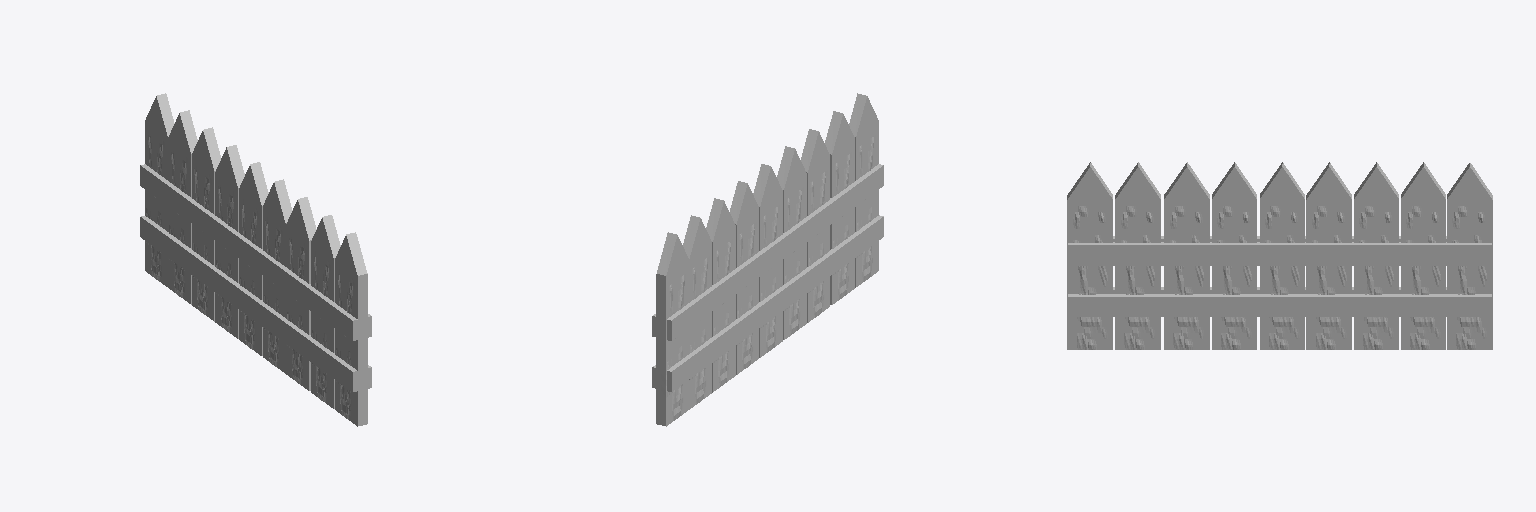
The model's file is fence.obj.
3 views of the same model, side by side, from view 1: azimuth 30°, elevation 25°; view 2: azimuth 150°, elevation 25°; view 3: azimuth 270°, elevation 25° (orthographic).
Parts seen in each view (by area): view 1: long_wood_3, long_wood_4, wood_1, wood_3, wood_2, wood_5, wood_6, wood_8, wood_4, wood_7, wood_9; view 2: long_wood_3, long_wood_4, wood_9, wood_2, wood_1, wood_4, wood_5, wood_7, wood_6, wood_3, wood_8; view 3: long_wood_1, long_wood_2, wood_1, wood_9, wood_2, wood_3, wood_6, wood_8, wood_5, wood_4, wood_7.
Boxes of the visible parts, x1,y1,x2,y2 form: long_wood_3: [140, 164, 357, 340]; long_wood_4: [140, 216, 357, 392]; wood_1: [335, 232, 367, 426]; wood_3: [286, 197, 316, 390]; wood_2: [311, 215, 340, 408]; wood_5: [239, 162, 268, 355]; wood_6: [215, 145, 244, 338]; wood_8: [168, 110, 197, 304]; wood_4: [263, 179, 292, 373]; wood_7: [192, 127, 220, 321]; wood_9: [145, 93, 174, 286]; long_wood_3: [667, 164, 883, 340]; long_wood_4: [667, 215, 883, 391]; wood_9: [656, 232, 688, 426]; wood_2: [825, 111, 854, 304]; wood_1: [849, 93, 878, 287]; wood_4: [777, 146, 806, 339]; wood_5: [753, 164, 782, 357]; wood_7: [706, 198, 735, 392]; wood_6: [730, 181, 758, 374]; wood_3: [801, 129, 829, 322]; wood_8: [683, 215, 711, 409]; long_wood_1: [1068, 242, 1491, 265]; long_wood_2: [1068, 294, 1491, 316]; wood_1: [1067, 162, 1112, 349]; wood_9: [1447, 163, 1492, 349]; wood_2: [1115, 162, 1160, 349]; wood_3: [1164, 162, 1209, 349]; wood_6: [1306, 162, 1351, 349]; wood_8: [1401, 162, 1445, 349]; wood_5: [1260, 162, 1304, 349]; wood_4: [1212, 162, 1256, 349]; wood_7: [1354, 162, 1398, 349].
Bounding box in the file's own units: 9.67 × 89.03 × 186.